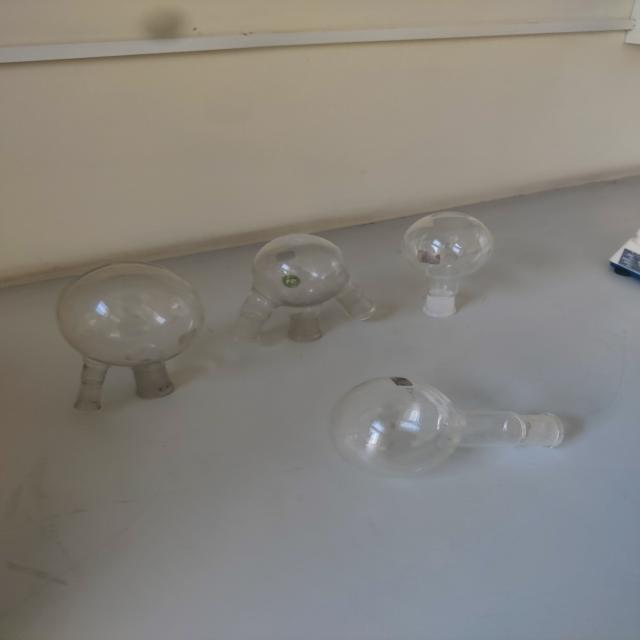Round_Bottom_Flask_Borosilicate_Glass_1_Neck: (325, 362, 611, 491), (395, 184, 519, 340)
Round_Bottom_Flask_Borosilicate_Glass_2_Neck: (31, 251, 228, 426)
Round_Bottom_Flask_Borosilicate_Glass_3_Neck: (214, 215, 396, 356)
